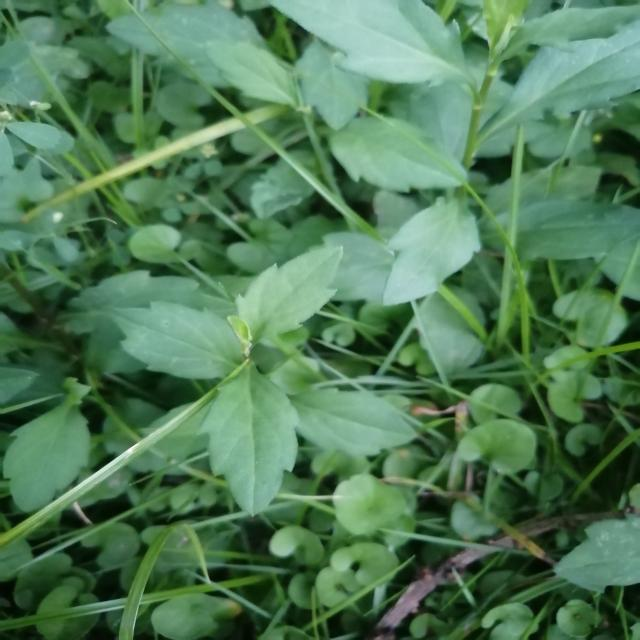Indian aster: (116, 265, 436, 500)
